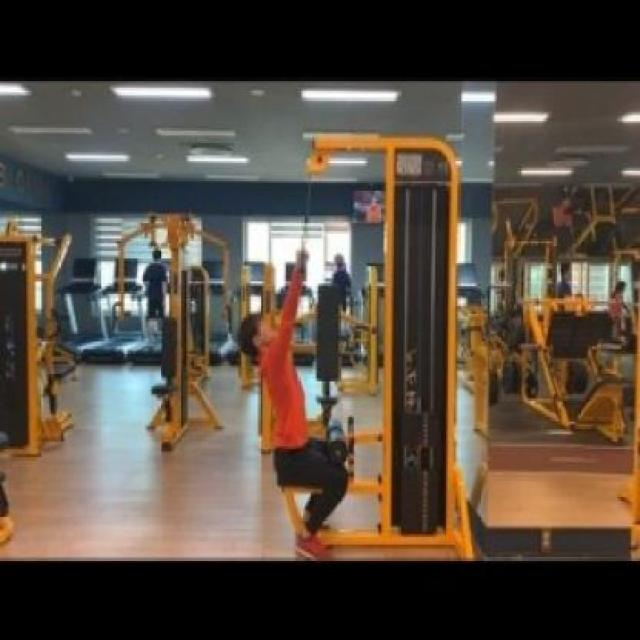Lat Pull Down: (211, 92, 492, 580)
